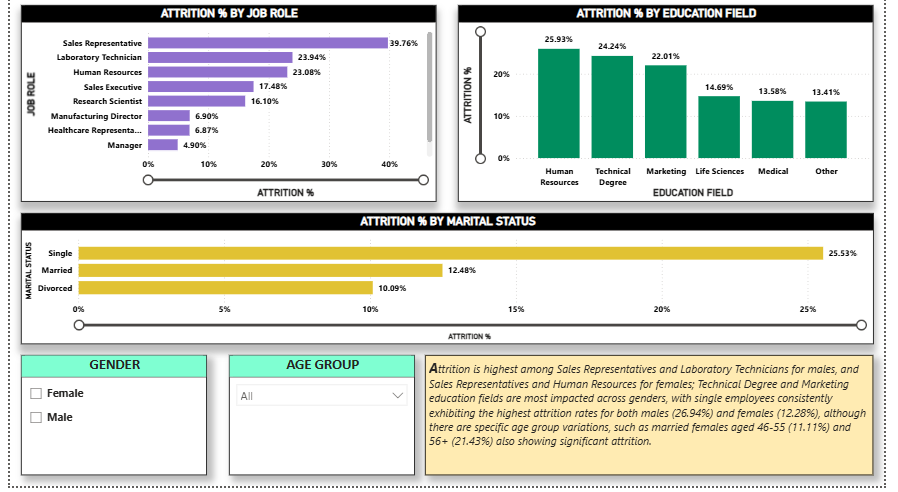

The dashboard page shown, as its layout file describes it:
{"tool":"powerbi","page":{"name":"Page 2-Attrition Deep Dive","canvas":[1280,720],"ordinal":1},"visuals":[{"type":"clusteredBarChart","title":"ATTRITION % BY JOB ROLE","fields":{"Y":["View.Attrition_Rate"],"Category":["HR Employee Attrition.Job_Role"]},"box":[16,16,608,288],"z":0},{"type":"clusteredColumnChart","title":"ATTRITION % BY EDUCATION FIELD","fields":{"Category":["HR Employee Attrition.Education_Field"],"Y":["View.Attrition_Rate"]},"box":[656,16,608,288],"z":1000},{"type":"clusteredBarChart","title":"ATTRITION % BY MARITAL STATUS","fields":{"Y":["View.Attrition_Rate"],"Category":["HR Employee Attrition.Marital_Status"]},"box":[16,320,1248,192],"z":2000},{"type":"slicer","title":"GENDER","fields":{"Values":["HR Employee Attrition.Gender"]},"box":[16,528,272,176],"z":3000},{"type":"slicer","title":"AGE GROUP","fields":{"Values":["HR Employee Attrition.Age Group"]},"box":[320,528,272,176],"z":4000},{"type":"textbox","box":[608,528,656,176],"z":5000}]}

Visuals, with their boxes in screenshot pixels (x1, y1, x2, y2), scaled from the page's 1280x720 canvas onto the 898x492 screenshot:
"ATTRITION % BY JOB ROLE" clusteredBarChart: (x1=11, y1=11, x2=438, y2=208)
"ATTRITION % BY EDUCATION FIELD" clusteredColumnChart: (x1=460, y1=11, x2=887, y2=208)
"ATTRITION % BY MARITAL STATUS" clusteredBarChart: (x1=11, y1=219, x2=887, y2=350)
"GENDER" slicer: (x1=11, y1=361, x2=202, y2=481)
"AGE GROUP" slicer: (x1=224, y1=361, x2=415, y2=481)
textbox: (x1=427, y1=361, x2=887, y2=481)
